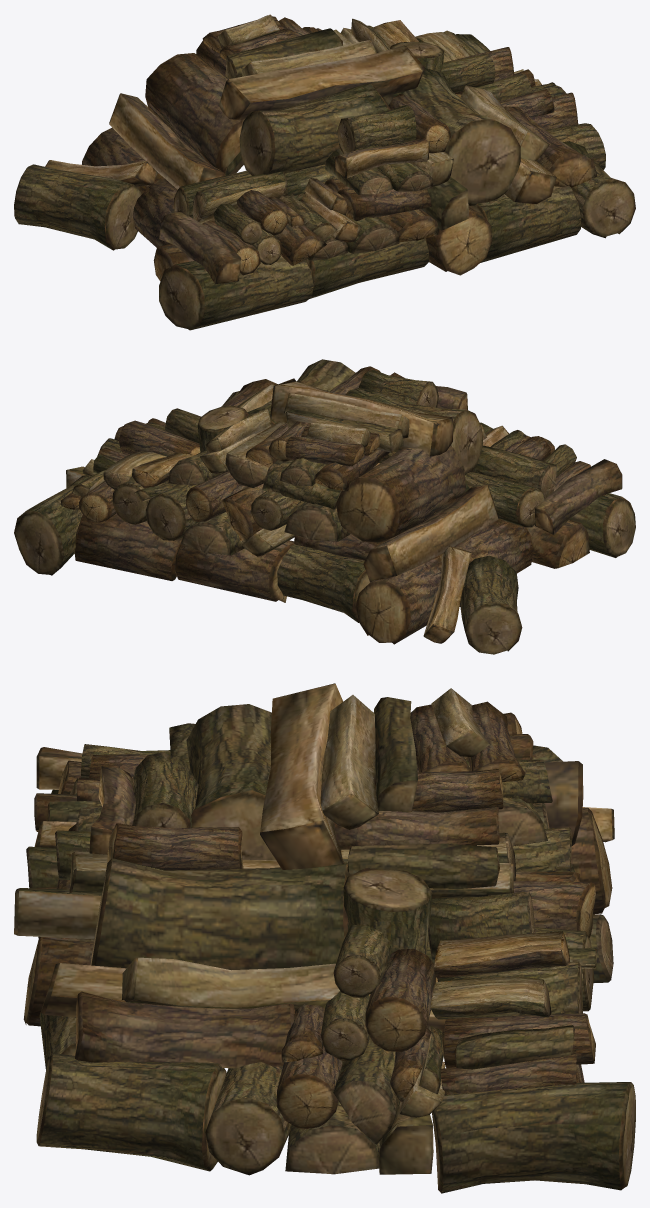
The picture shows the model from 3 angles, top to bottom: view 1: azimuth 30°, elevation 25°; view 2: azimuth 150°, elevation 25°; view 3: azimuth 270°, elevation 25°; orthographic projection. The views are drawn at different scales.
Visible parts, largest first — view 1: LV_Common_Object_A_Woodpile03_SM_CNH; view 2: LV_Common_Object_A_Woodpile03_SM_CNH; view 3: LV_Common_Object_A_Woodpile03_SM_CNH.
Boxes of the visible parts, left/top/right/bottom form: LV_Common_Object_A_Woodpile03_SM_CNH: left=14, top=14, right=635, bottom=330; LV_Common_Object_A_Woodpile03_SM_CNH: left=14, top=359, right=635, bottom=654; LV_Common_Object_A_Woodpile03_SM_CNH: left=14, top=683, right=635, bottom=1193.
Bounding box in the file's own units: 0.7051 × 0.2402 × 0.4824.
Materials: 1 (1 with a texture image).
